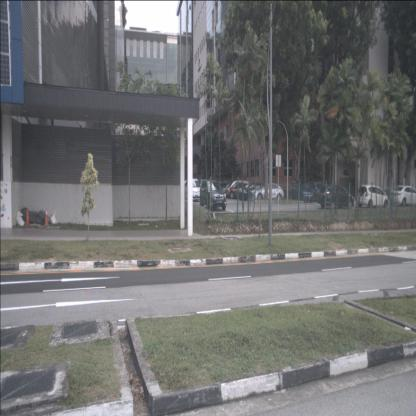movable_object-trafficcone: (44, 210, 50, 226), (25, 209, 30, 226)
vehicle-car: (317, 184, 354, 209), (200, 179, 226, 211), (358, 184, 388, 208), (250, 182, 284, 201), (391, 185, 416, 207), (289, 181, 313, 203), (238, 180, 264, 199), (225, 181, 252, 199), (306, 181, 329, 202), (184, 178, 202, 202)
